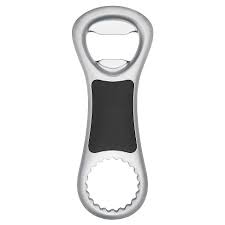bottleopener: (71, 5, 155, 222)
